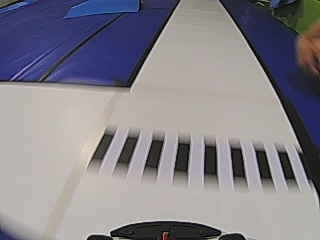CrossWalk: (92, 131, 294, 180)
